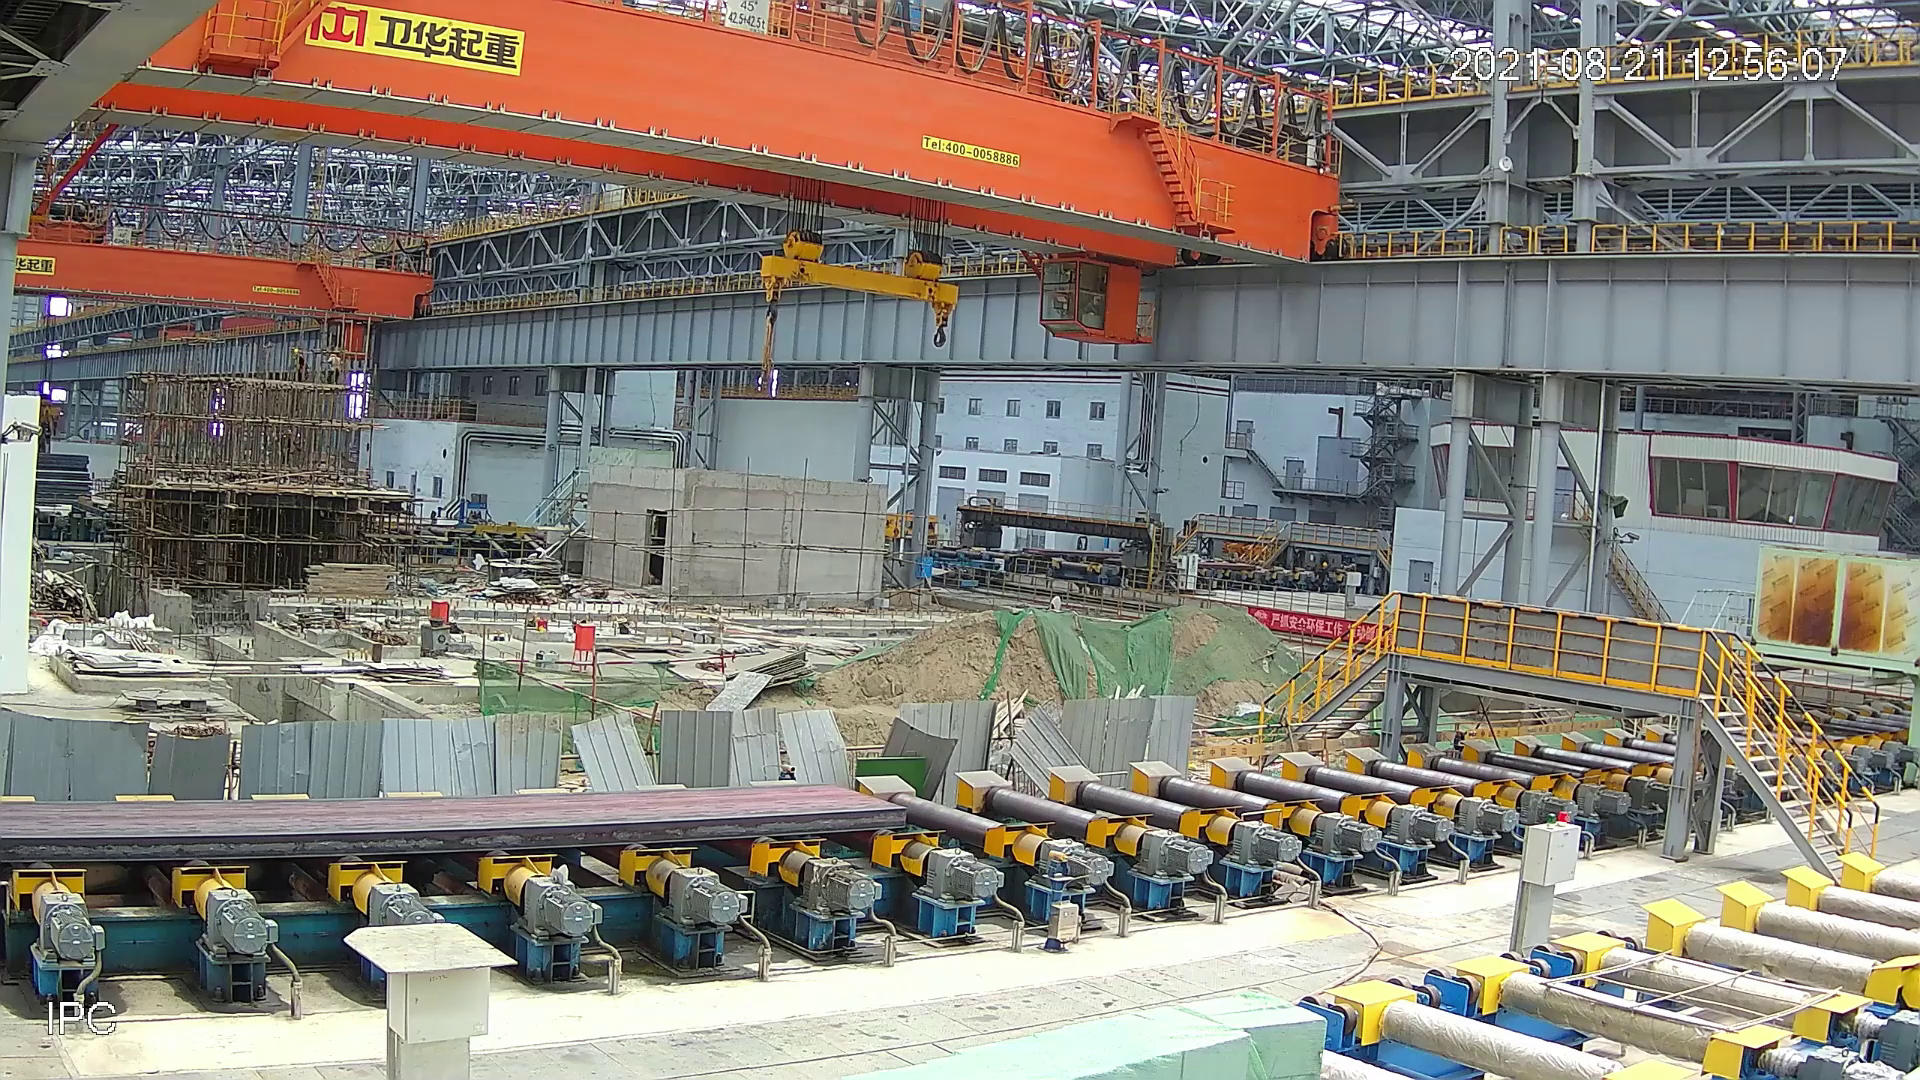slab: (1, 779, 909, 870)
